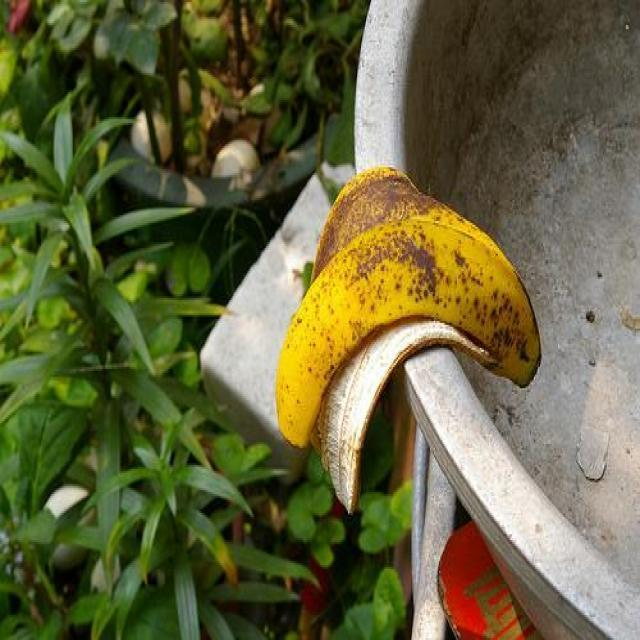banana-peel: (273, 164, 542, 514)
